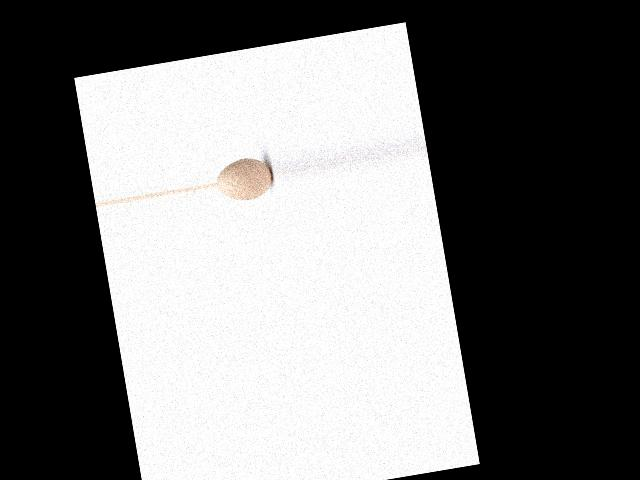egg: (214, 155, 275, 204)
